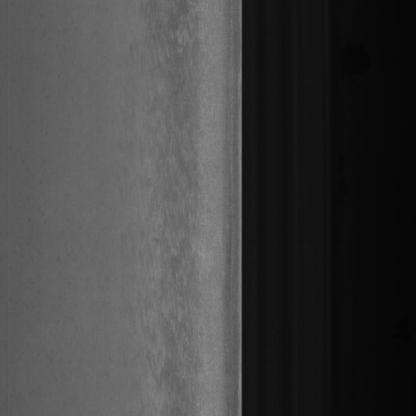silk_spot: (138, 31, 205, 405)
